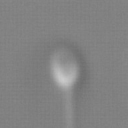normal: (53, 89, 88, 128)
